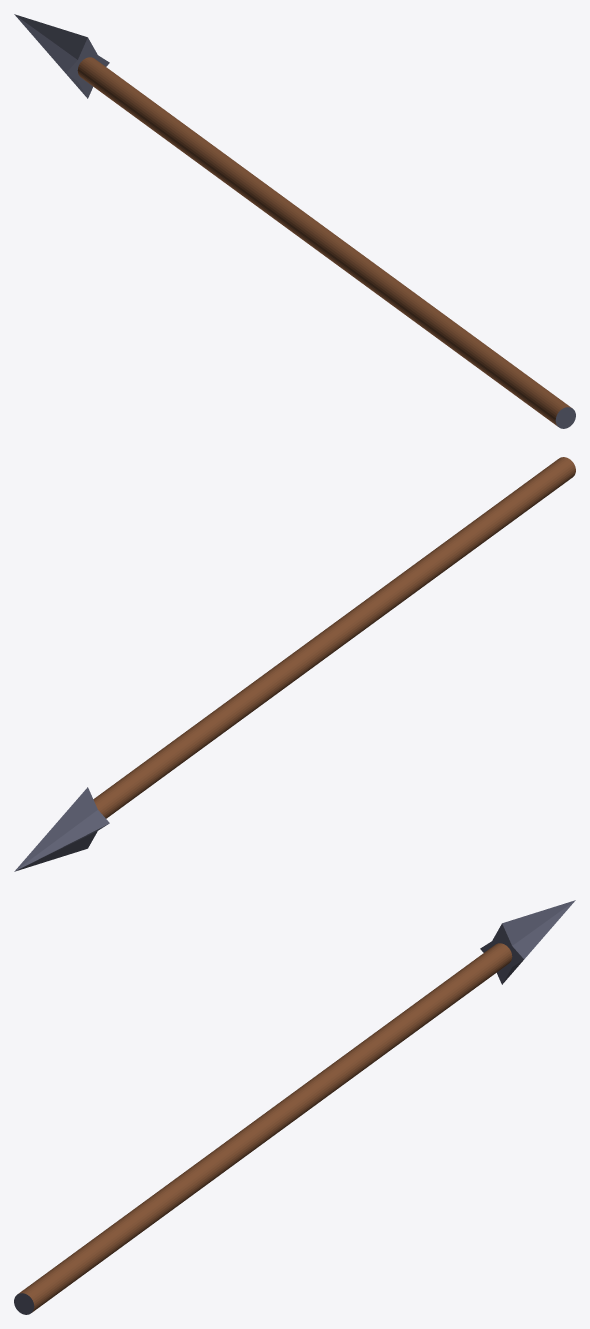
File: Flecha.fbx
The picture shows the model from 3 angles, top to bottom: view 1: azimuth 30°, elevation 25°; view 2: azimuth 150°, elevation 25°; view 3: azimuth 330°, elevation 25°; orthographic projection.
Visible parts, largest first — view 1: Cylinder; view 2: Cylinder; view 3: Cylinder.
Boxes of the visible parts, bbox=[...] form: Cylinder: bbox=[14, 14, 575, 428]; Cylinder: bbox=[14, 457, 575, 871]; Cylinder: bbox=[14, 900, 575, 1314].
Size of the model in its own units: 2.77 by 3.69 by 59.74.
